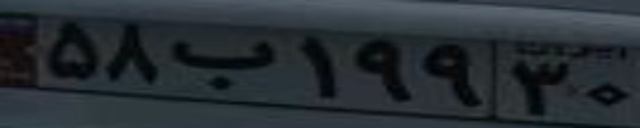0: (580, 81, 636, 109)
1: (297, 35, 339, 98)
3: (506, 59, 571, 117)
5: (44, 21, 100, 81)
8: (103, 23, 160, 85)
9: (420, 42, 483, 108), (352, 38, 411, 104)
be: (168, 38, 277, 91)
